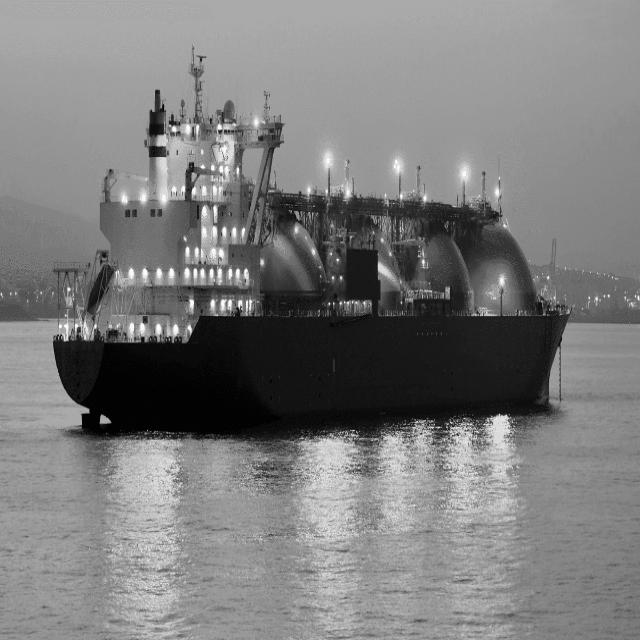LNG: (42, 26, 578, 463)
